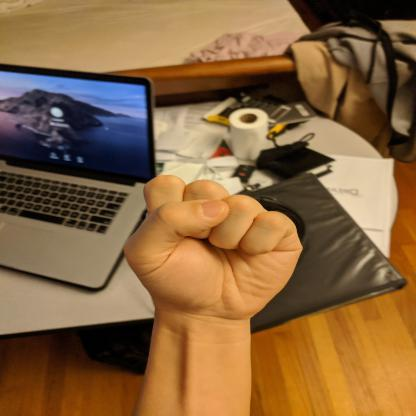S: (118, 172, 308, 325)
